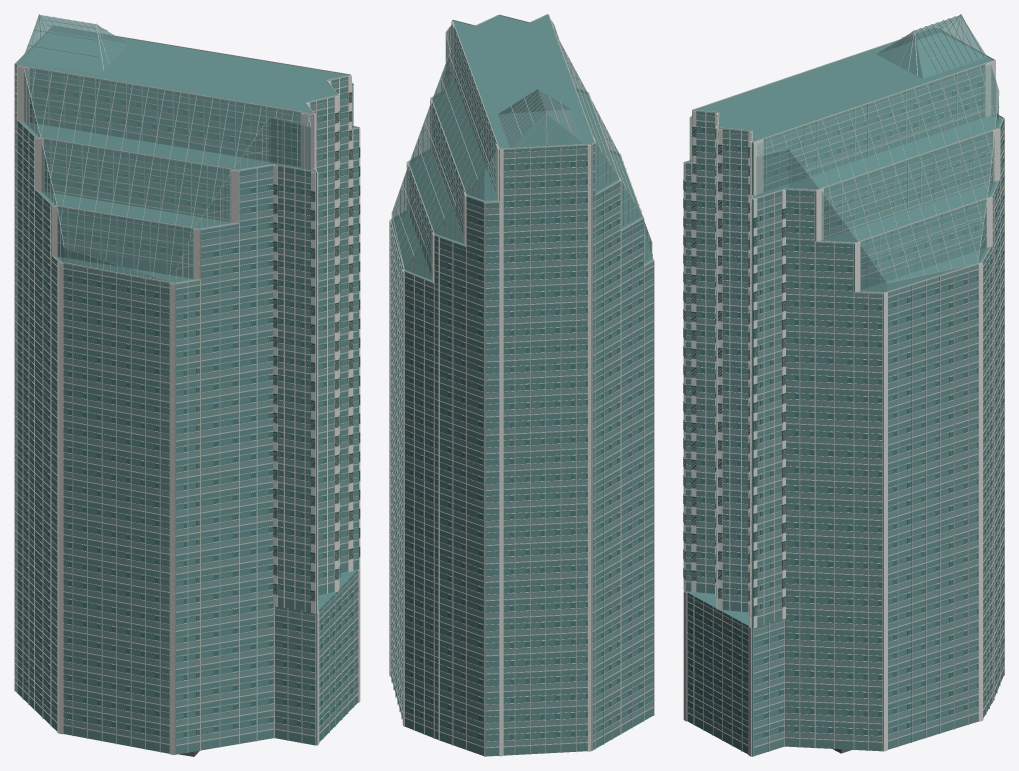
Rendered from bespoke-lotte-castle-ivy-101.glb.
The picture shows the model from 3 angles, left to right: view 1: azimuth 30°, elevation 25°; view 2: azimuth 150°, elevation 25°; view 3: azimuth 270°, elevation 25°; orthographic projection. The views are drawn at different scales.
Parts seen in each view (by area): view 1: 101_broad_faces_and_V_end008, 101_broad_faces_and_V_end008_3, 101_broad_faces_and_V_end008_1, 101_sloped_glass_terraces_and_crown008_1, 101_broad_faces_and_V_end008_2, 101_individual_stepped_masses008, 101_broad_faces_and_V_end008_6, 101_sloped_glass_terraces_and_crown008, 101_broad_faces_and_V_end008_4, 101_broad_faces_and_V_end008_5; view 2: 101_broad_faces_and_V_end008, 101_broad_faces_and_V_end008_3, 101_broad_faces_and_V_end008_1, 101_individual_stepped_masses008, 101_sloped_glass_terraces_and_crown008_1, 101_broad_faces_and_V_end008_2, 101_broad_faces_and_V_end008_6, 101_sloped_glass_terraces_and_crown008; view 3: 101_broad_faces_and_V_end008, 101_broad_faces_and_V_end008_3, 101_broad_faces_and_V_end008_1, 101_sloped_glass_terraces_and_crown008_1, 101_broad_faces_and_V_end008_2, 101_individual_stepped_masses008, 101_broad_faces_and_V_end008_6, 101_sloped_glass_terraces_and_crown008, 101_broad_faces_and_V_end008_4, 101_broad_faces_and_V_end008_5.
Boxes of the visible parts, <box> form: 101_broad_faces_and_V_end008: <box>15,65,358,754</box>; 101_broad_faces_and_V_end008_3: <box>15,67,359,752</box>; 101_broad_faces_and_V_end008_1: <box>15,69,358,744</box>; 101_sloped_glass_terraces_and_crown008_1: <box>22,15,353,282</box>; 101_broad_faces_and_V_end008_2: <box>14,63,360,755</box>; 101_individual_stepped_masses008: <box>16,27,358,744</box>; 101_broad_faces_and_V_end008_6: <box>20,85,358,737</box>; 101_sloped_glass_terraces_and_crown008: <box>15,14,359,284</box>; 101_broad_faces_and_V_end008_4: <box>273,92,360,601</box>; 101_broad_faces_and_V_end008_5: <box>273,94,360,600</box>; 101_broad_faces_and_V_end008: <box>390,28,653,756</box>; 101_broad_faces_and_V_end008_3: <box>390,21,653,754</box>; 101_broad_faces_and_V_end008_1: <box>390,32,653,747</box>; 101_individual_stepped_masses008: <box>391,15,652,755</box>; 101_sloped_glass_terraces_and_crown008_1: <box>391,22,652,280</box>; 101_broad_faces_and_V_end008_2: <box>389,14,654,756</box>; 101_broad_faces_and_V_end008_6: <box>391,49,643,740</box>; 101_sloped_glass_terraces_and_crown008: <box>390,14,653,283</box>; 101_broad_faces_and_V_end008: <box>685,65,1003,756</box>; 101_broad_faces_and_V_end008_3: <box>685,65,1004,751</box>; 101_broad_faces_and_V_end008_1: <box>685,69,1003,746</box>; 101_sloped_glass_terraces_and_crown008_1: <box>689,15,998,291</box>; 101_broad_faces_and_V_end008_2: <box>683,60,1004,756</box>; 101_individual_stepped_masses008: <box>686,29,1002,750</box>; 101_broad_faces_and_V_end008_6: <box>690,81,1004,737</box>; 101_sloped_glass_terraces_and_crown008: <box>684,14,1003,294</box>; 101_broad_faces_and_V_end008_4: <box>683,127,786,616</box>; 101_broad_faces_and_V_end008_5: <box>684,128,785,615</box>.
Bounding box in the file's own units: 45.4 × 118 × 49.83.
